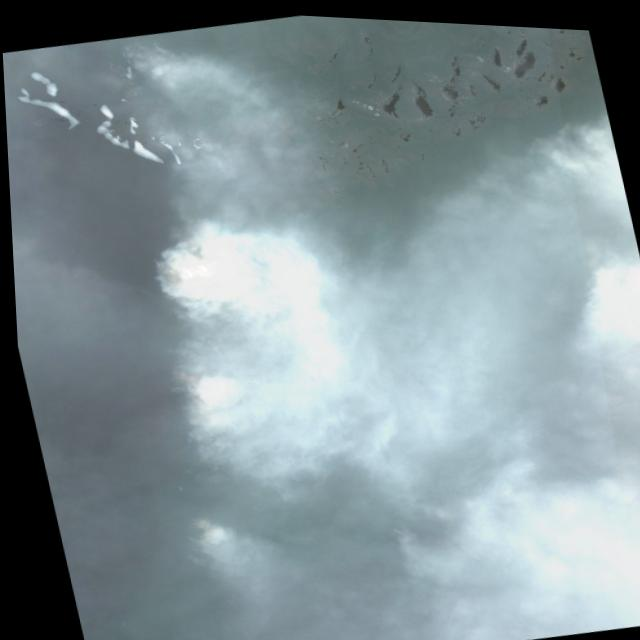fire: (135, 226, 260, 492), (90, 23, 197, 102), (170, 506, 227, 576)
